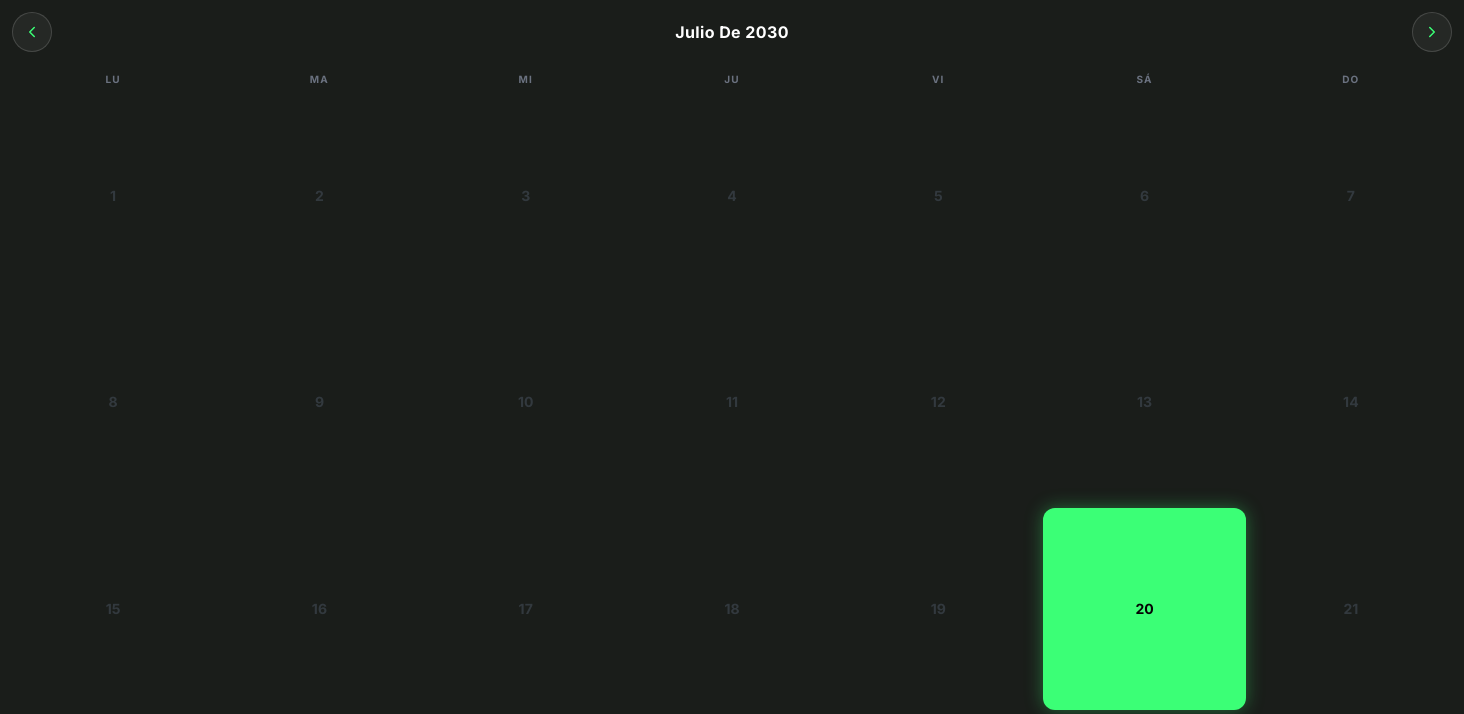
Test: BookingMonthPicker › navigates to the next month with one click
This screenshot has width=1464, height=714.
Check: the text "julio de 2030" is shown, box [675, 22, 789, 42]
Click the button named "mes siguiente": (1432, 32) [1412, 12, 1452, 52]
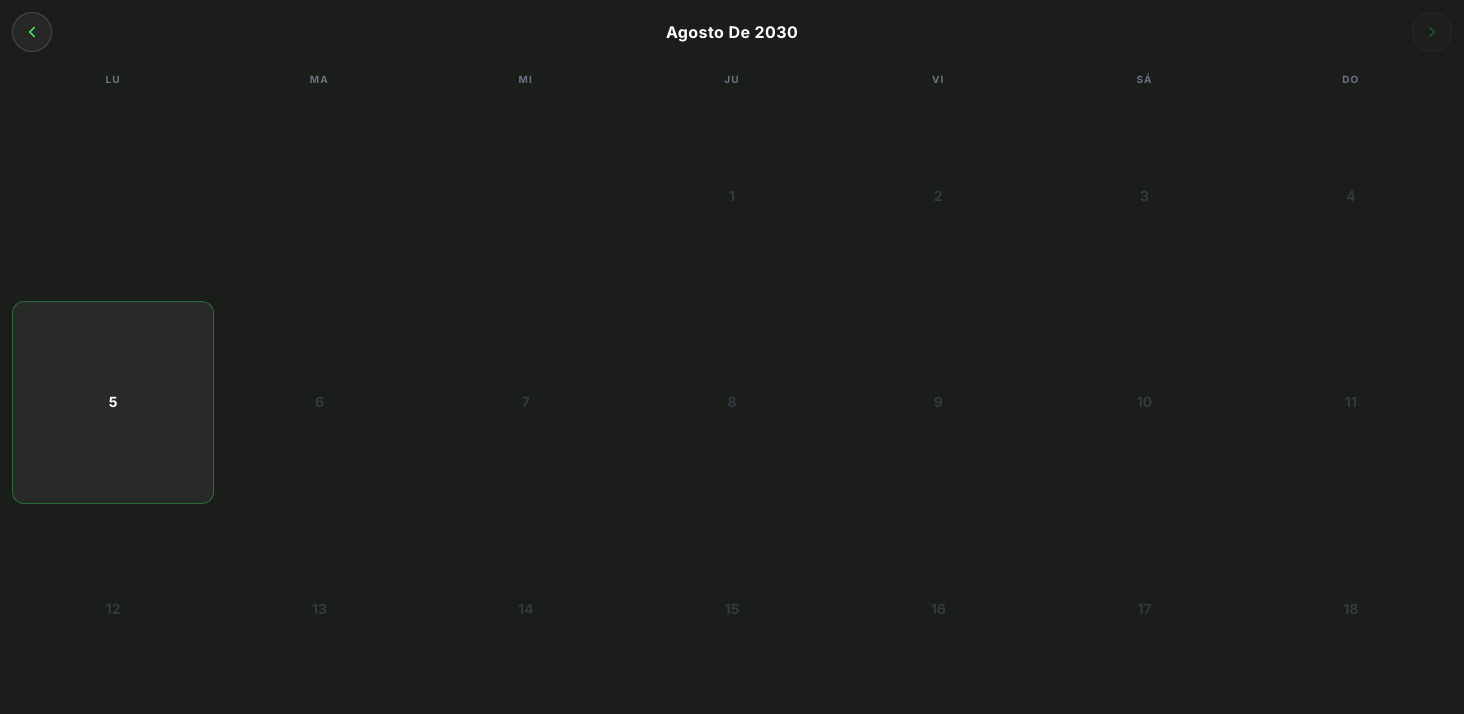
Check: the text "agosto de 2030" is shown, box [666, 22, 798, 42]
